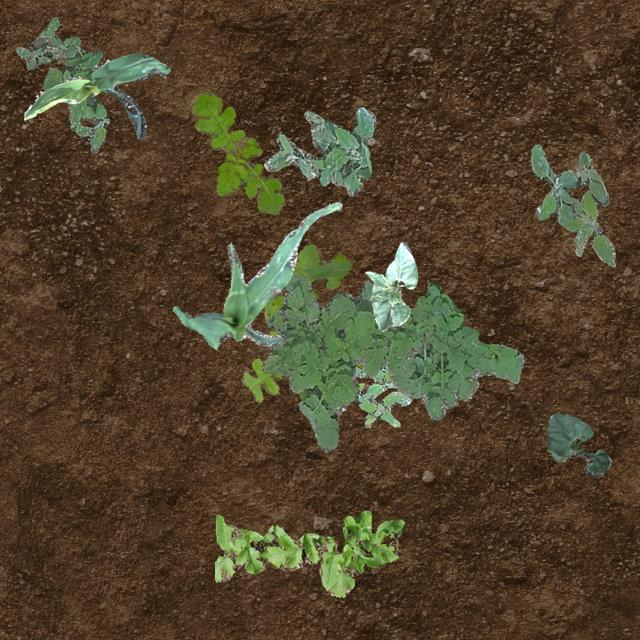crop: (172, 202, 340, 348), (23, 52, 168, 138), (364, 240, 416, 330), (546, 412, 610, 477)
weed: (260, 272, 522, 452), (240, 242, 362, 400), (214, 511, 404, 596), (14, 15, 108, 152), (188, 90, 282, 214), (262, 106, 376, 196), (530, 144, 608, 222), (560, 190, 614, 266), (352, 364, 412, 426)
